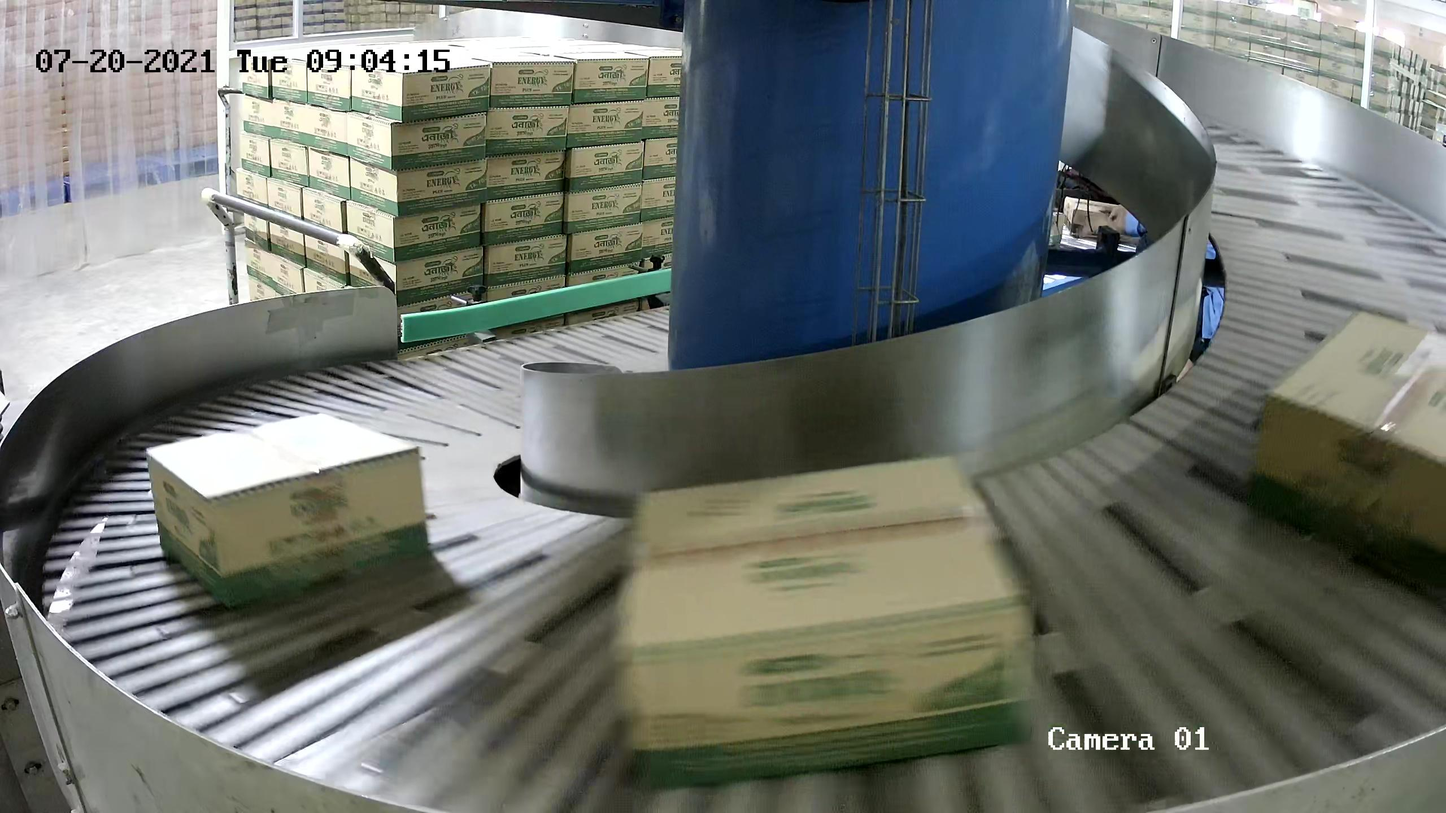Box: (612, 452, 1040, 786), (144, 411, 432, 608), (1254, 309, 1446, 581)
